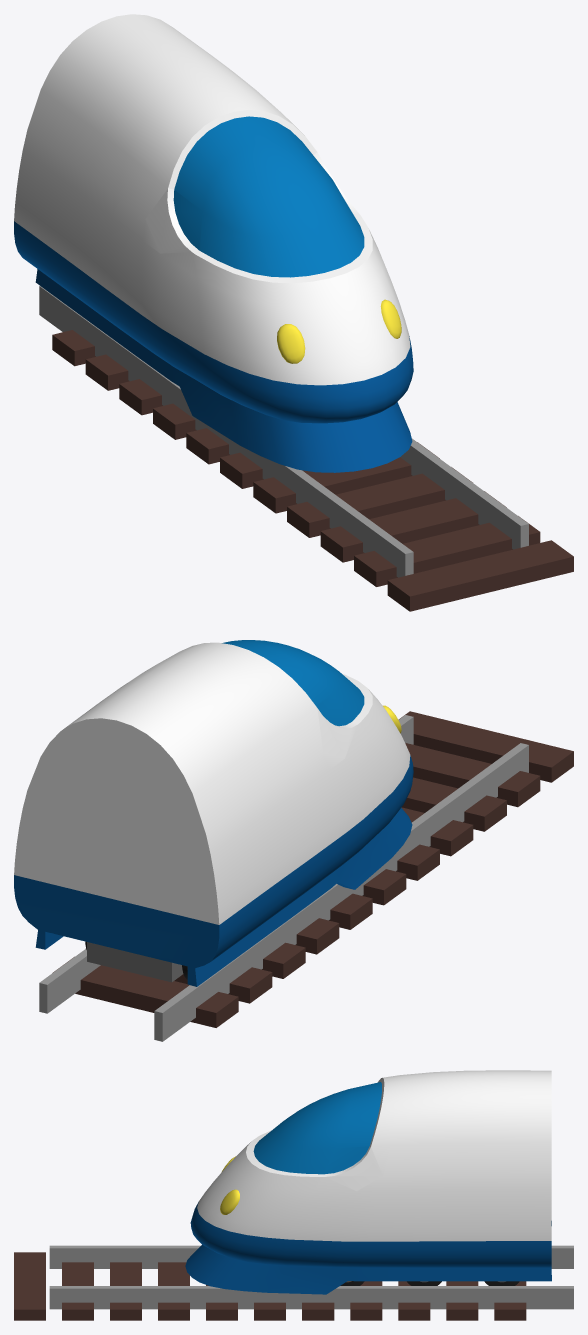
Rendered from train.glb.
The picture shows the model from 3 angles, top to bottom: view 1: azimuth 30°, elevation 25°; view 2: azimuth 150°, elevation 25°; view 3: azimuth 270°, elevation 25°; orthographic projection. The views are drawn at different scales.
Parts seen in each view (by area): view 1: Cube.558, Cube.569, Cube.568; view 2: Cube.558, Cube.569, Cube.568; view 3: Cube.558, Cube.568, Cube.569, Cube.559.
Boxes of the visible parts, x1,y1,x2,y2 form: Cube.558: [14, 14, 413, 472]; Cube.569: [52, 330, 573, 611]; Cube.568: [39, 286, 528, 577]; Cube.558: [14, 640, 413, 986]; Cube.569: [53, 711, 573, 1027]; Cube.568: [39, 715, 528, 1041]; Cube.558: [185, 1070, 551, 1294]; Cube.568: [49, 1245, 573, 1309]; Cube.569: [14, 1252, 526, 1320]; Cube.559: [340, 1281, 519, 1285].
Size of the model in its own units: 1.34 by 1.88 by 4.42.
1 material, 1 textured.
